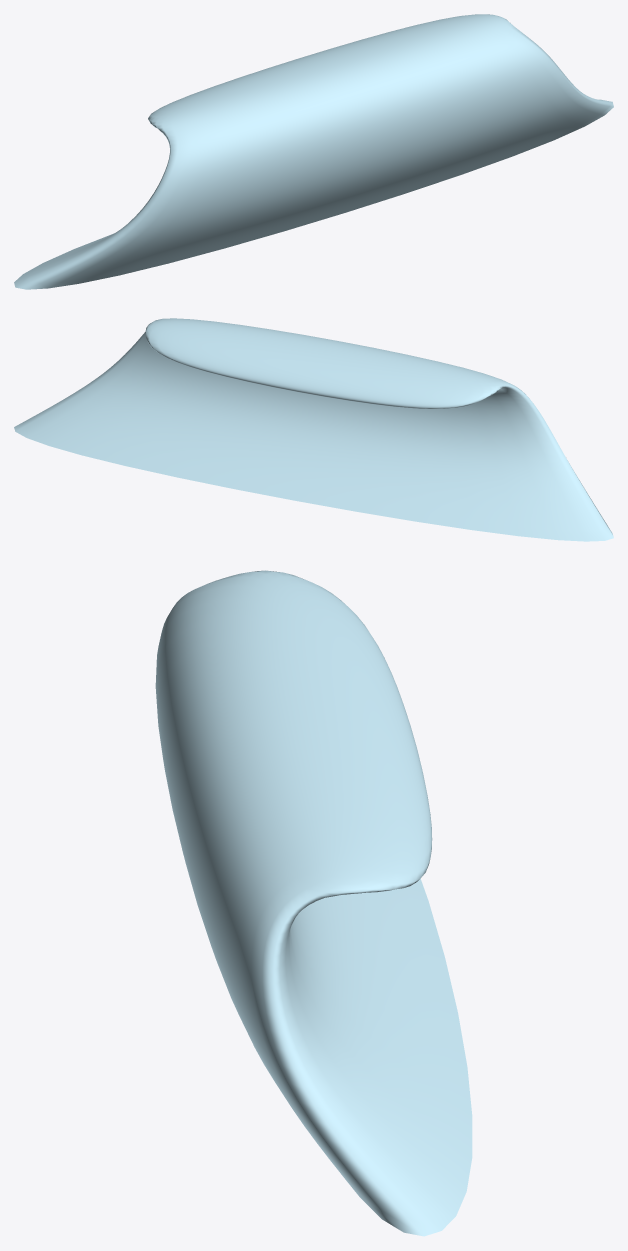
File: wave2animations.fbx
The picture shows the model from 3 angles, top to bottom: view 1: azimuth 30°, elevation 25°; view 2: azimuth 150°, elevation 25°; view 3: azimuth 270°, elevation 25°; orthographic projection. The views are drawn at different scales.
Parts seen in each view (by area): view 1: wave:Wave; view 2: wave:Wave; view 3: wave:Wave.
Boxes of the visible parts, x1,y1,x2,y2 form: wave:Wave: (14,14,613,289); wave:Wave: (14,318,613,541); wave:Wave: (155,570,472,1236).
Bounding box in the file's own units: 2978 × 620 × 724.
